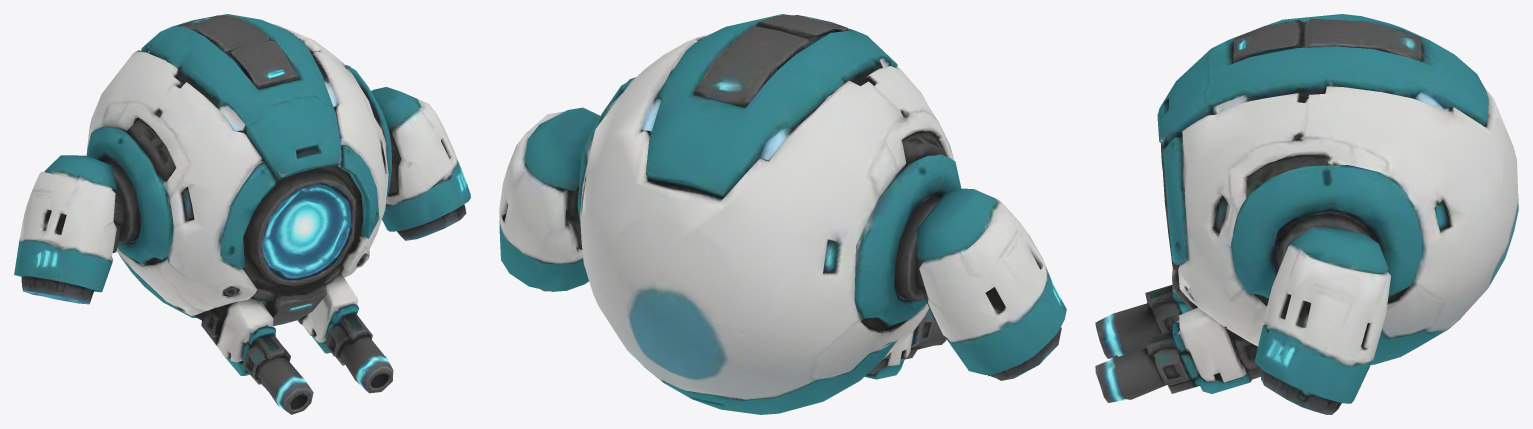
File: env-drone.glb
The picture shows the model from 3 angles, left to right: view 1: azimuth 30°, elevation 25°; view 2: azimuth 150°, elevation 25°; view 3: azimuth 270°, elevation 25°; orthographic projection. The views are drawn at different scales.
Visible parts, largest first — view 1: env-drone; view 2: env-drone; view 3: env-drone.
Part boxes in pixels (x1,y1,x2,y2): env-drone: [14, 14, 470, 414]; env-drone: [499, 14, 1066, 414]; env-drone: [1095, 14, 1518, 414].
Bounding box in the file's own units: 1.68 × 1.1 × 1.21.
1 material, 1 textured.
